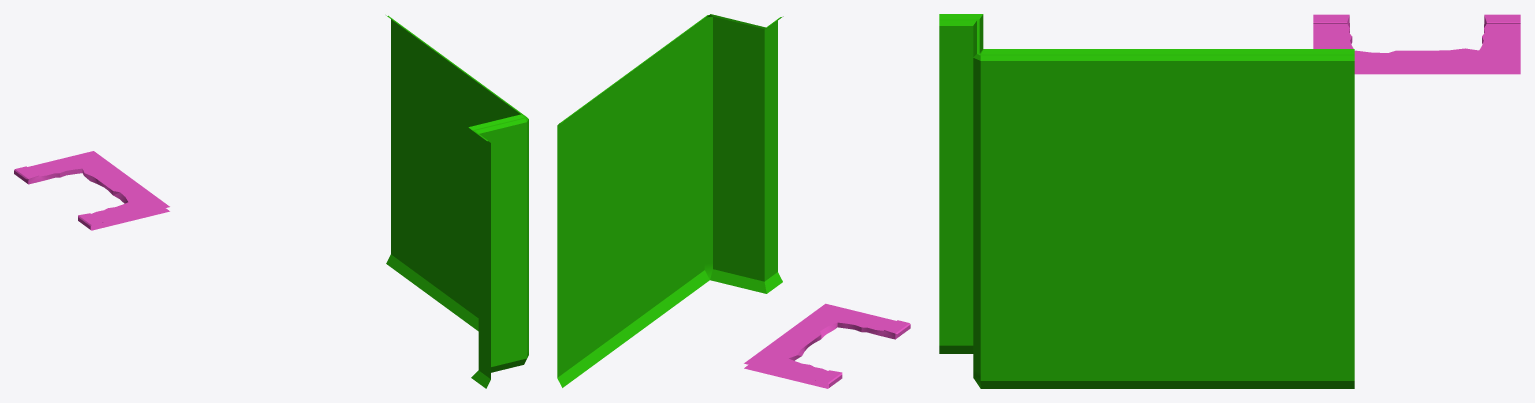
Rendered from roto.fbx.
The picture shows the model from 3 angles, left to right: view 1: azimuth 30°, elevation 25°; view 2: azimuth 150°, elevation 25°; view 3: azimuth 270°, elevation 25°; orthographic projection. The views are drawn at different scales.
Parts seen in each view (by area): view 1: polySurface7258pasted__pCube133, polySurface7258pasted__pCube135, polySurface25044, polySurface25056, polySurface25047, polySurface25055, polySurface25054, polySurface25053; view 2: polySurface7258pasted__pCube133, polySurface7258pasted__pCube135, polySurface25044, polySurface25047, polySurface25056, polySurface25055, polySurface25053, polySurface25054; view 3: polySurface7258pasted__pCube133, polySurface7258pasted__pCube135, polySurface25044, polySurface25047, polySurface25056, polySurface25055, polySurface25054, polySurface25053.
Part boxes in pixels (x1=…): polySurface7258pasted__pCube133: x1=386, y1=15, x2=513, y2=331; polySurface7258pasted__pCube135: x1=496, y1=105, x2=528, y2=370; polySurface25044: x1=468, y1=120, x2=500, y2=388; polySurface25056: x1=78, y1=196, x2=169, y2=230; polySurface25047: x1=14, y1=151, x2=108, y2=184; polySurface25055: x1=82, y1=162, x2=123, y2=183; polySurface25054: x1=97, y1=173, x2=139, y2=194; polySurface25053: x1=113, y1=184, x2=154, y2=203; polySurface7258pasted__pCube133: x1=557, y1=27, x2=693, y2=387; polySurface7258pasted__pCube135: x1=688, y1=14, x2=741, y2=291; polySurface25044: x1=738, y1=16, x2=783, y2=293; polySurface25047: x1=744, y1=351, x2=842, y2=388; polySurface25056: x1=809, y1=303, x2=910, y2=339; polySurface25055: x1=760, y1=339, x2=804, y2=360; polySurface25053: x1=793, y1=315, x2=837, y2=338; polySurface25054: x1=777, y1=327, x2=821, y2=350; polySurface7258pasted__pCube133: x1=1022, y1=49, x2=1354, y2=388; polySurface7258pasted__pCube135: x1=973, y1=33, x2=1022, y2=388; polySurface25044: x1=939, y1=14, x2=983, y2=353; polySurface25047: x1=1479, y1=14, x2=1520, y2=74; polySurface25056: x1=1313, y1=14, x2=1353, y2=48; polySurface25055: x1=1438, y1=48, x2=1479, y2=74; polySurface25054: x1=1396, y1=50, x2=1437, y2=74; polySurface25053: x1=1354, y1=50, x2=1396, y2=74.
Bounding box in the file's own units: 11.88 × 9 × 14.
